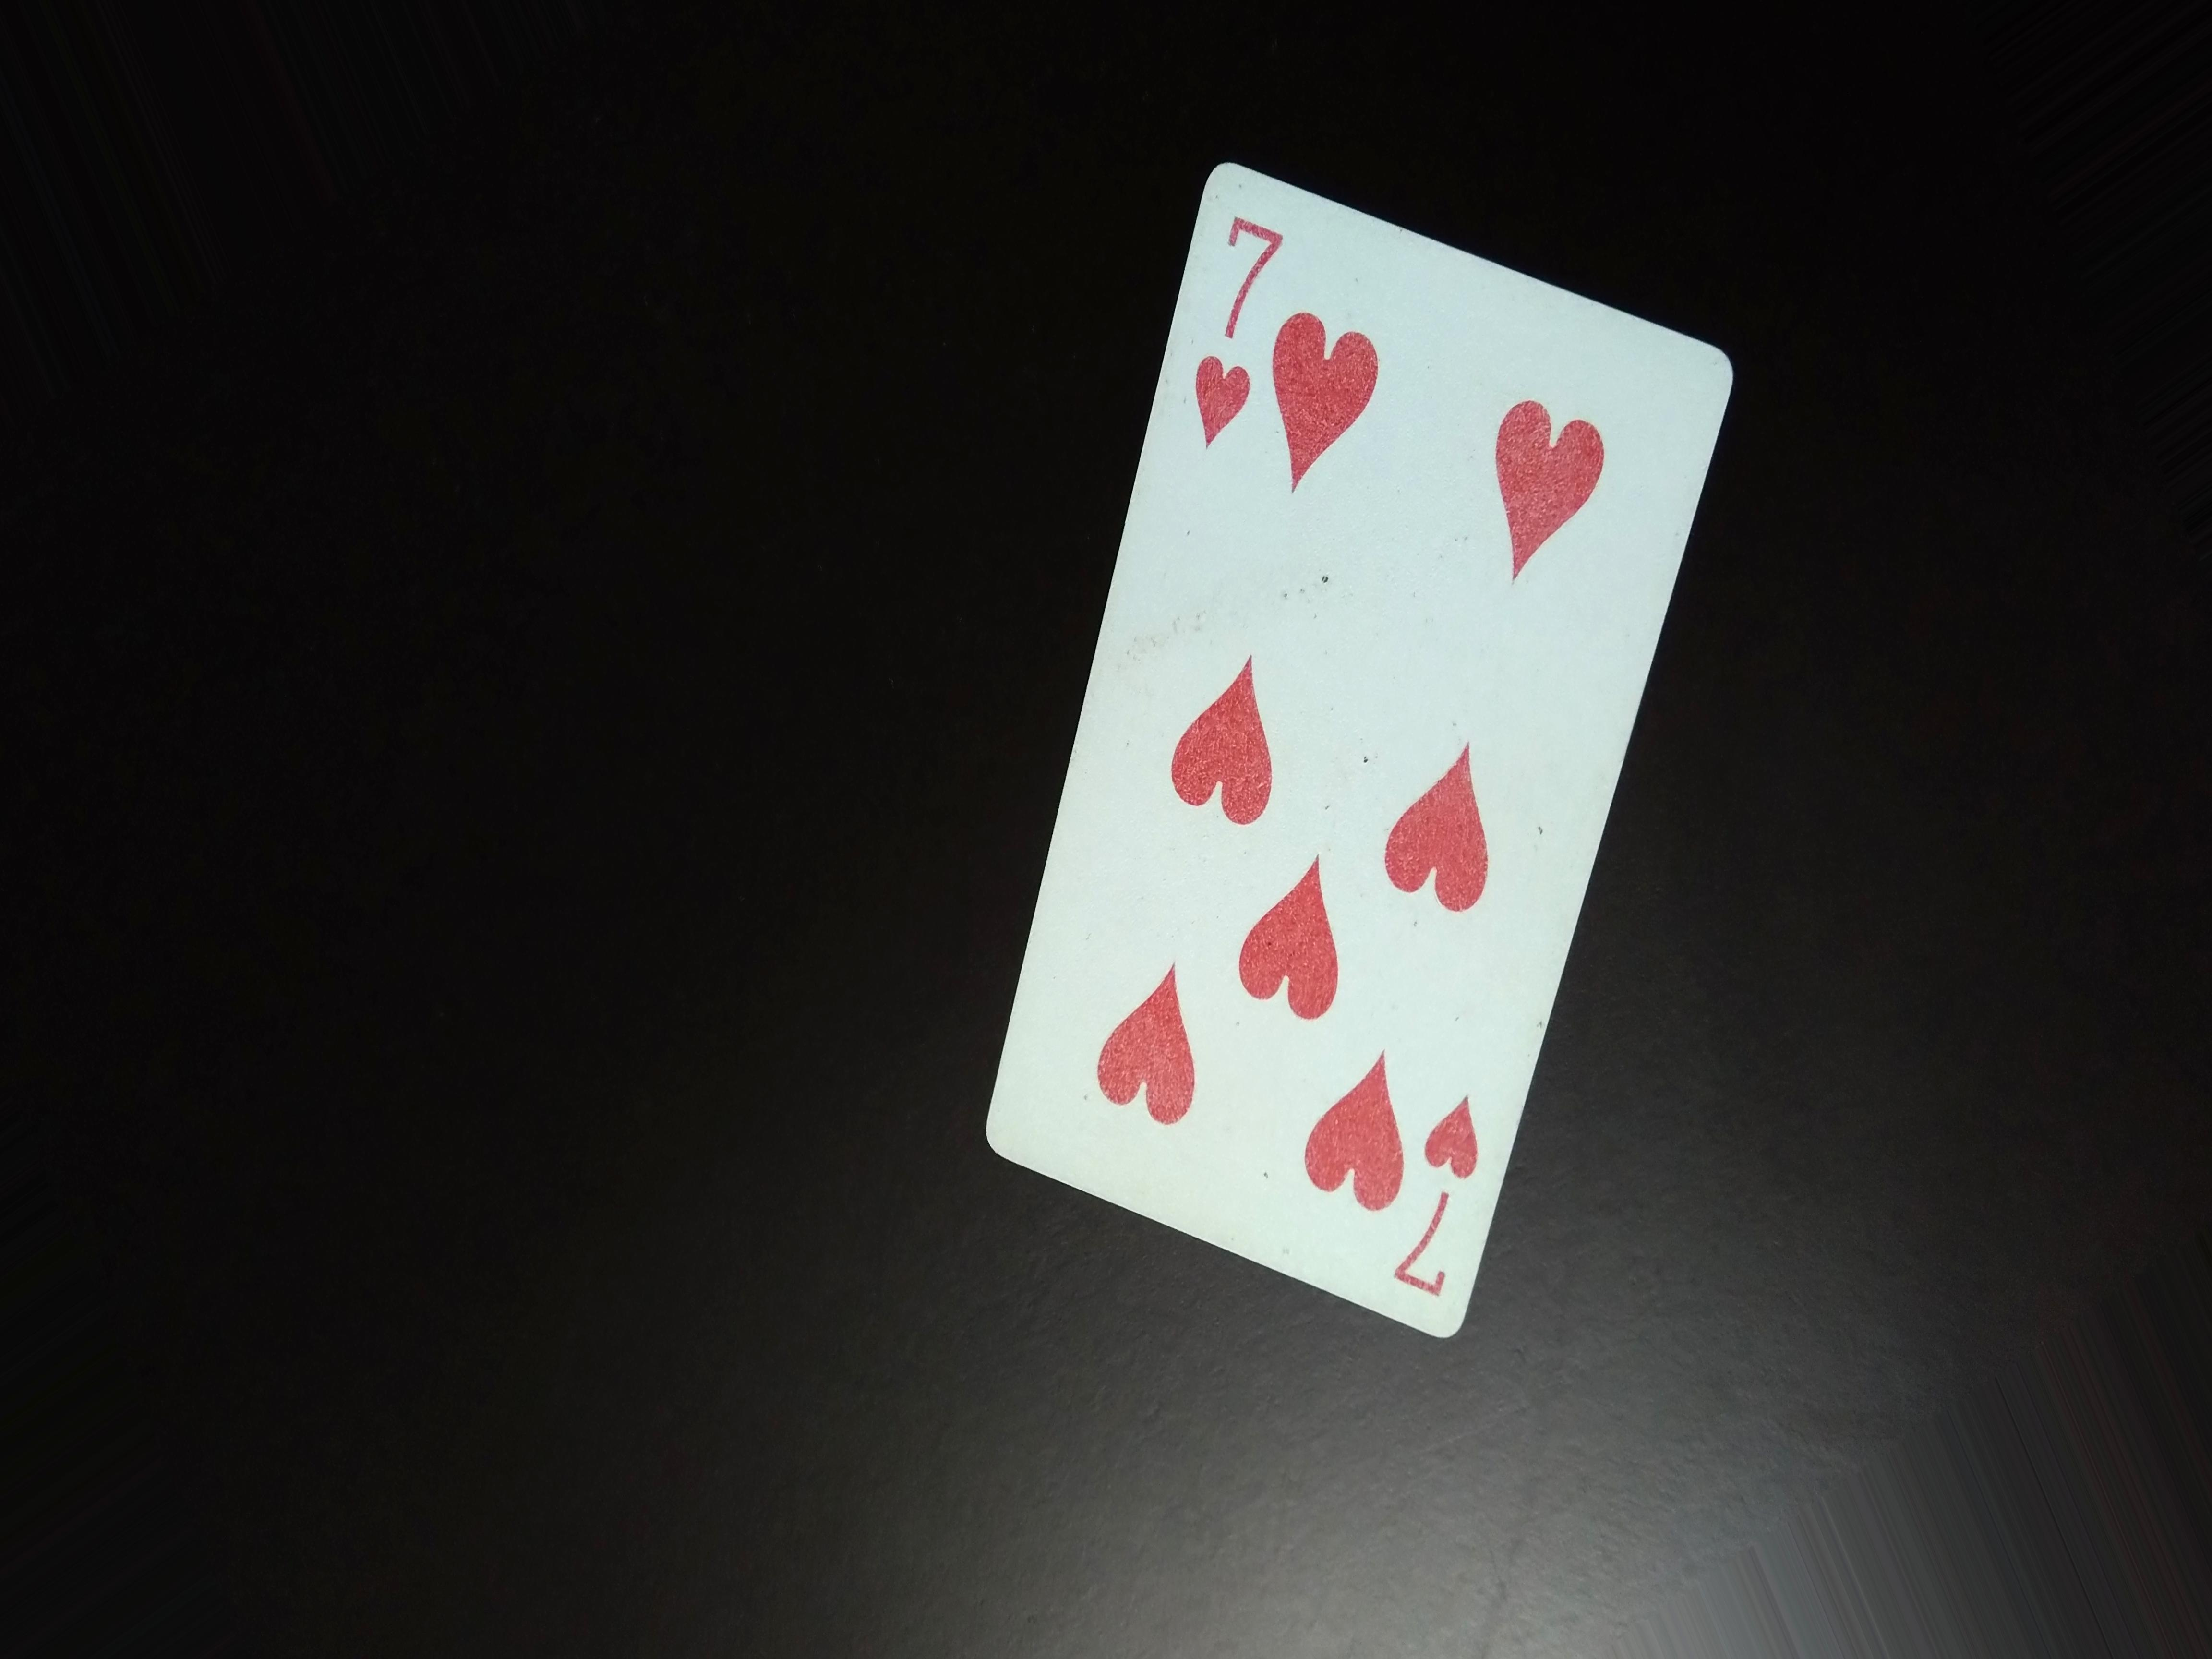7H: (1188, 181, 1305, 472)
